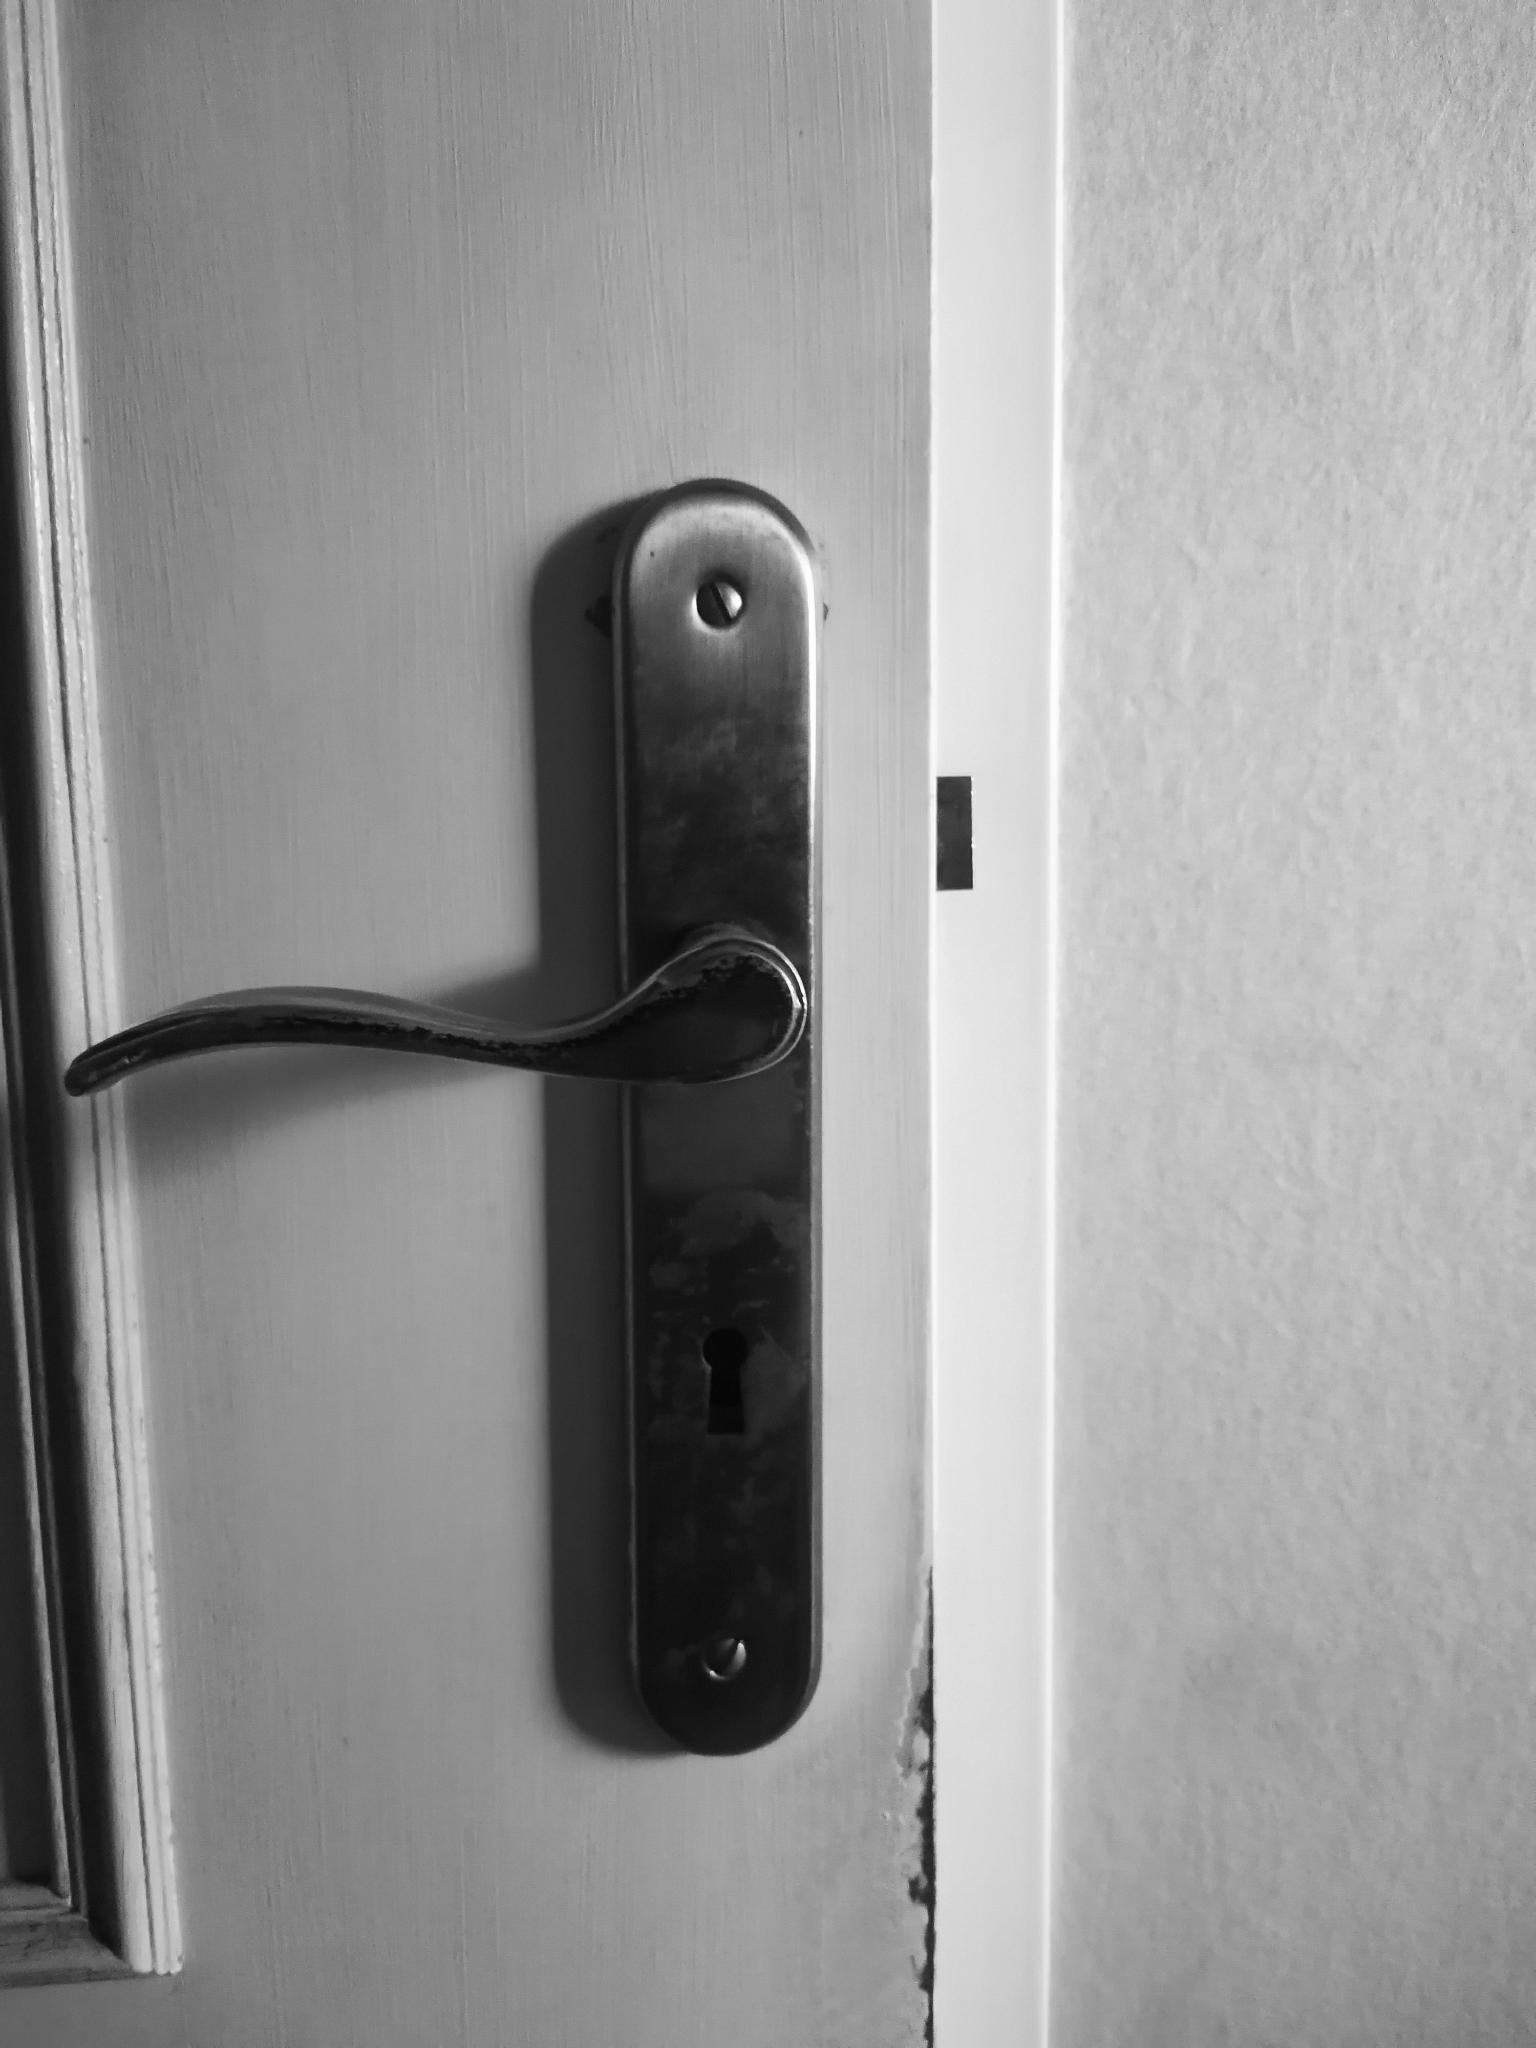slotted: (691, 576, 747, 631), (700, 1635, 750, 1684)
